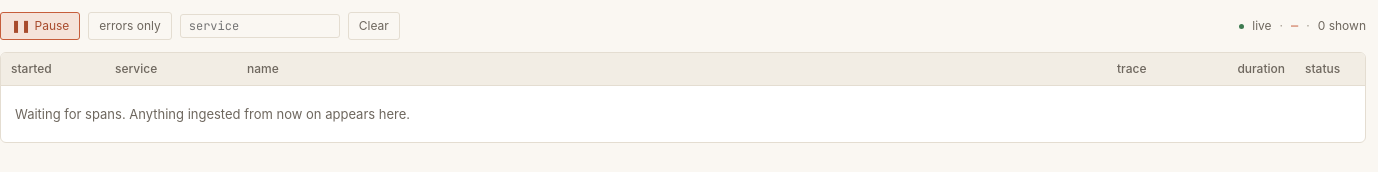
Scenario: the live tail screen › says when pausing has cost spans rather than dropping them silently
Click the button "❚❚ Pause" at (40, 26), box [0,12,80,40]
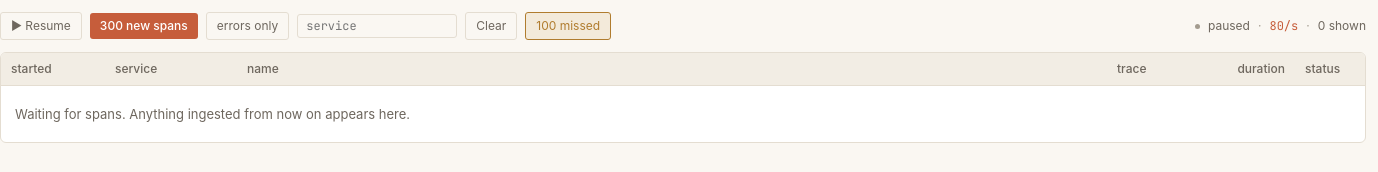
Now the text "100 missed" is shown, box [525,12,611,40]
